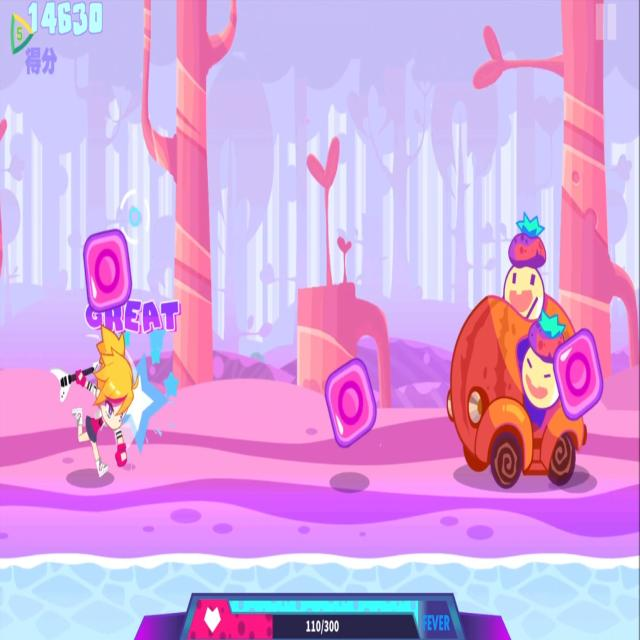kuai: (322, 353, 382, 457), (81, 222, 134, 317)
